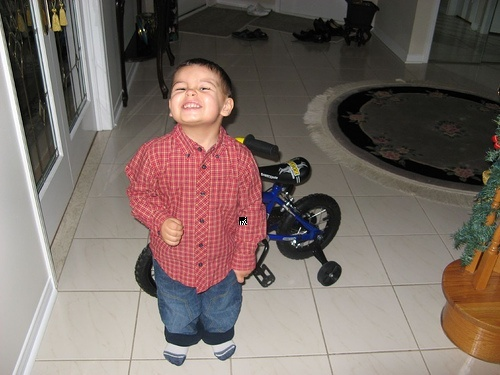car: (135, 135, 343, 299)
person: (126, 59, 267, 367)
person/foot: (164, 341, 192, 366), (212, 339, 237, 362)
person/hand: (160, 213, 186, 249), (232, 270, 257, 285)
person/head: (169, 60, 238, 128)
